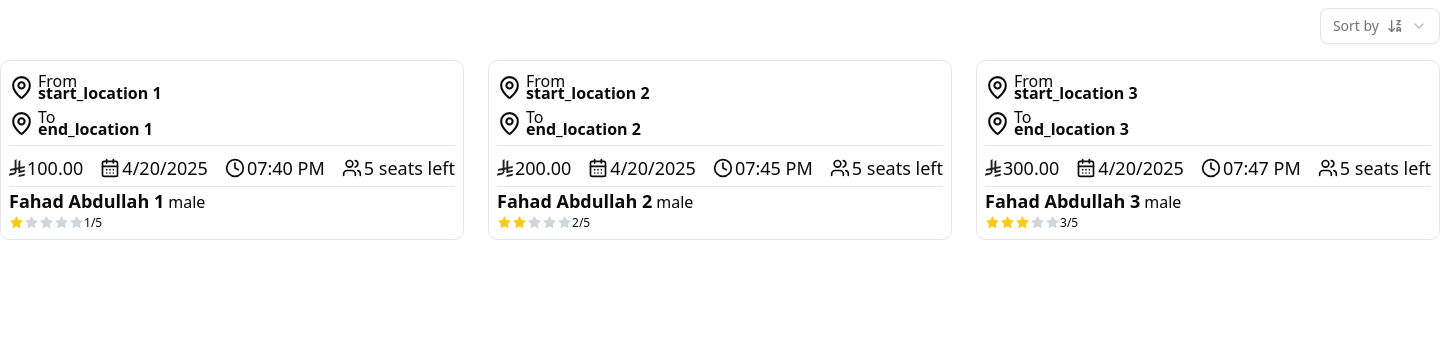
Test: <SearchResult /> › sorts by latest time
Click the dropdown with id "sortBy" at (1380, 26), box [1320, 8, 1440, 44]
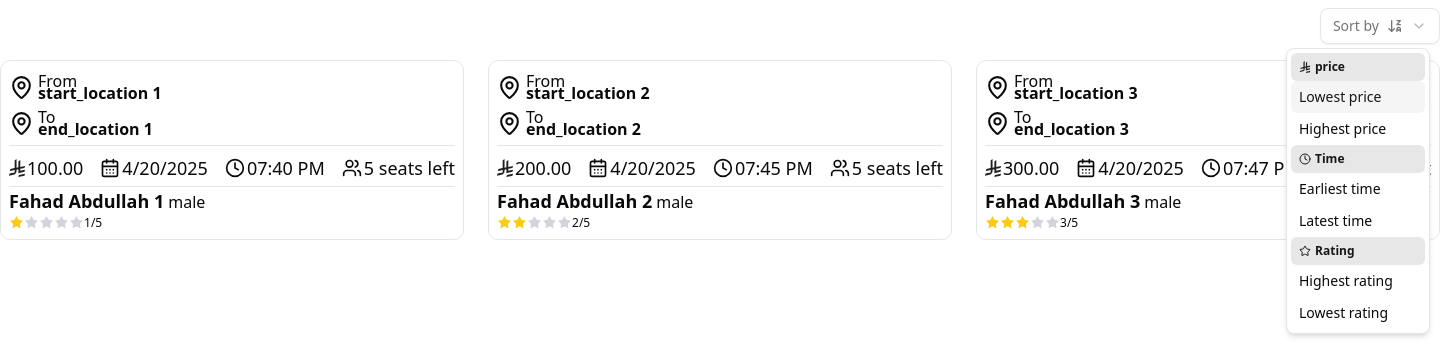
Click the text "Latest time" at (1336, 221), box [1299, 211, 1372, 231]
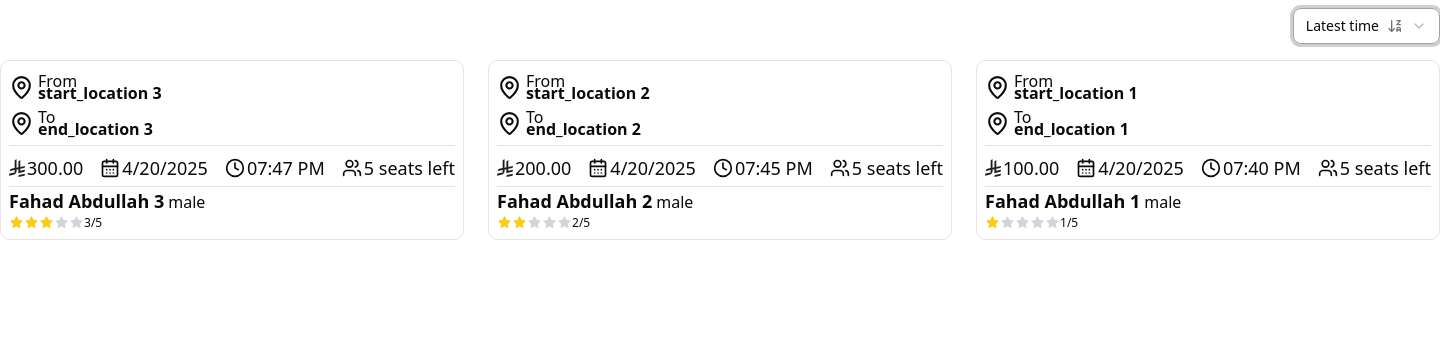
Check: the element with id "trip-card" shows "Fahad Abdullah 2", box [488, 60, 952, 240]
Check: the element with id "trip-card" shows "Fahad Abdullah 3", box [0, 60, 464, 240]
Check: the element with id "trip-card" shows "Fahad Abdullah 1", box [976, 60, 1440, 240]
